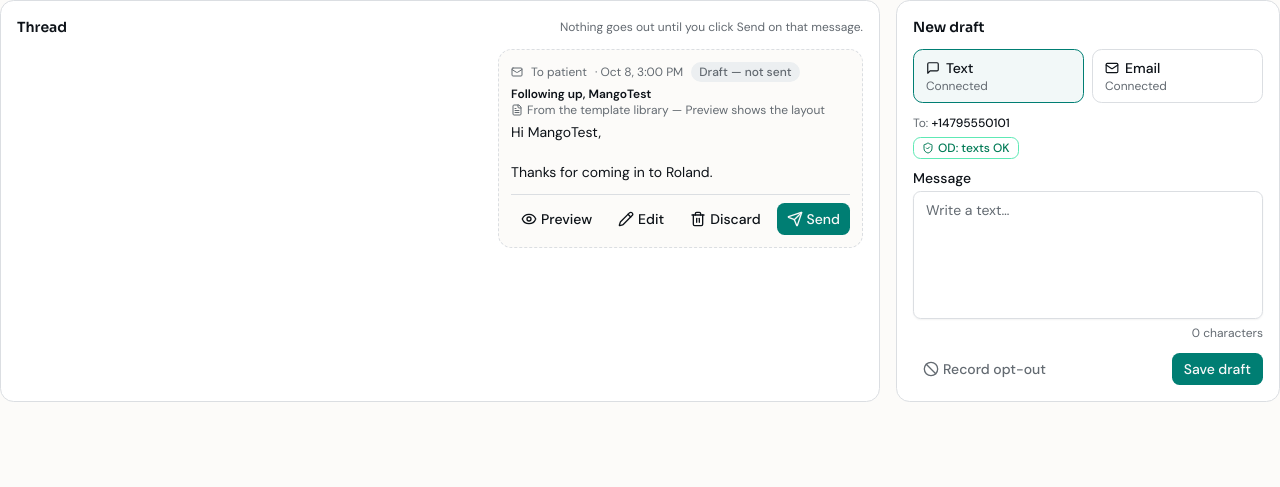
Test: the template picker reuses the template library › editing a template draft: the body is read-only and says why
Click the button "Edit": (641, 219) [608,203,674,235]
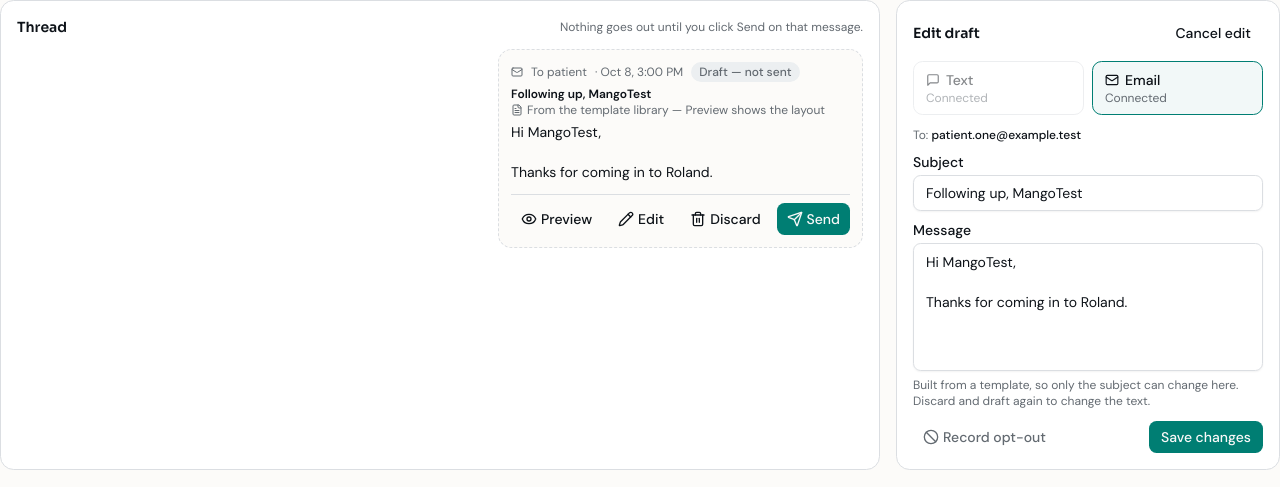
Now the text with test id "templated-edit-note" is shown, box [913,377,1263,409]
